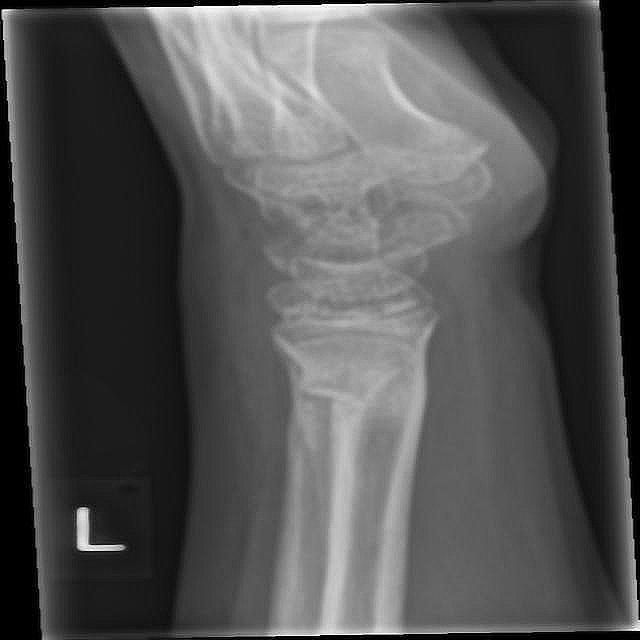bone: (290, 366, 429, 419)
